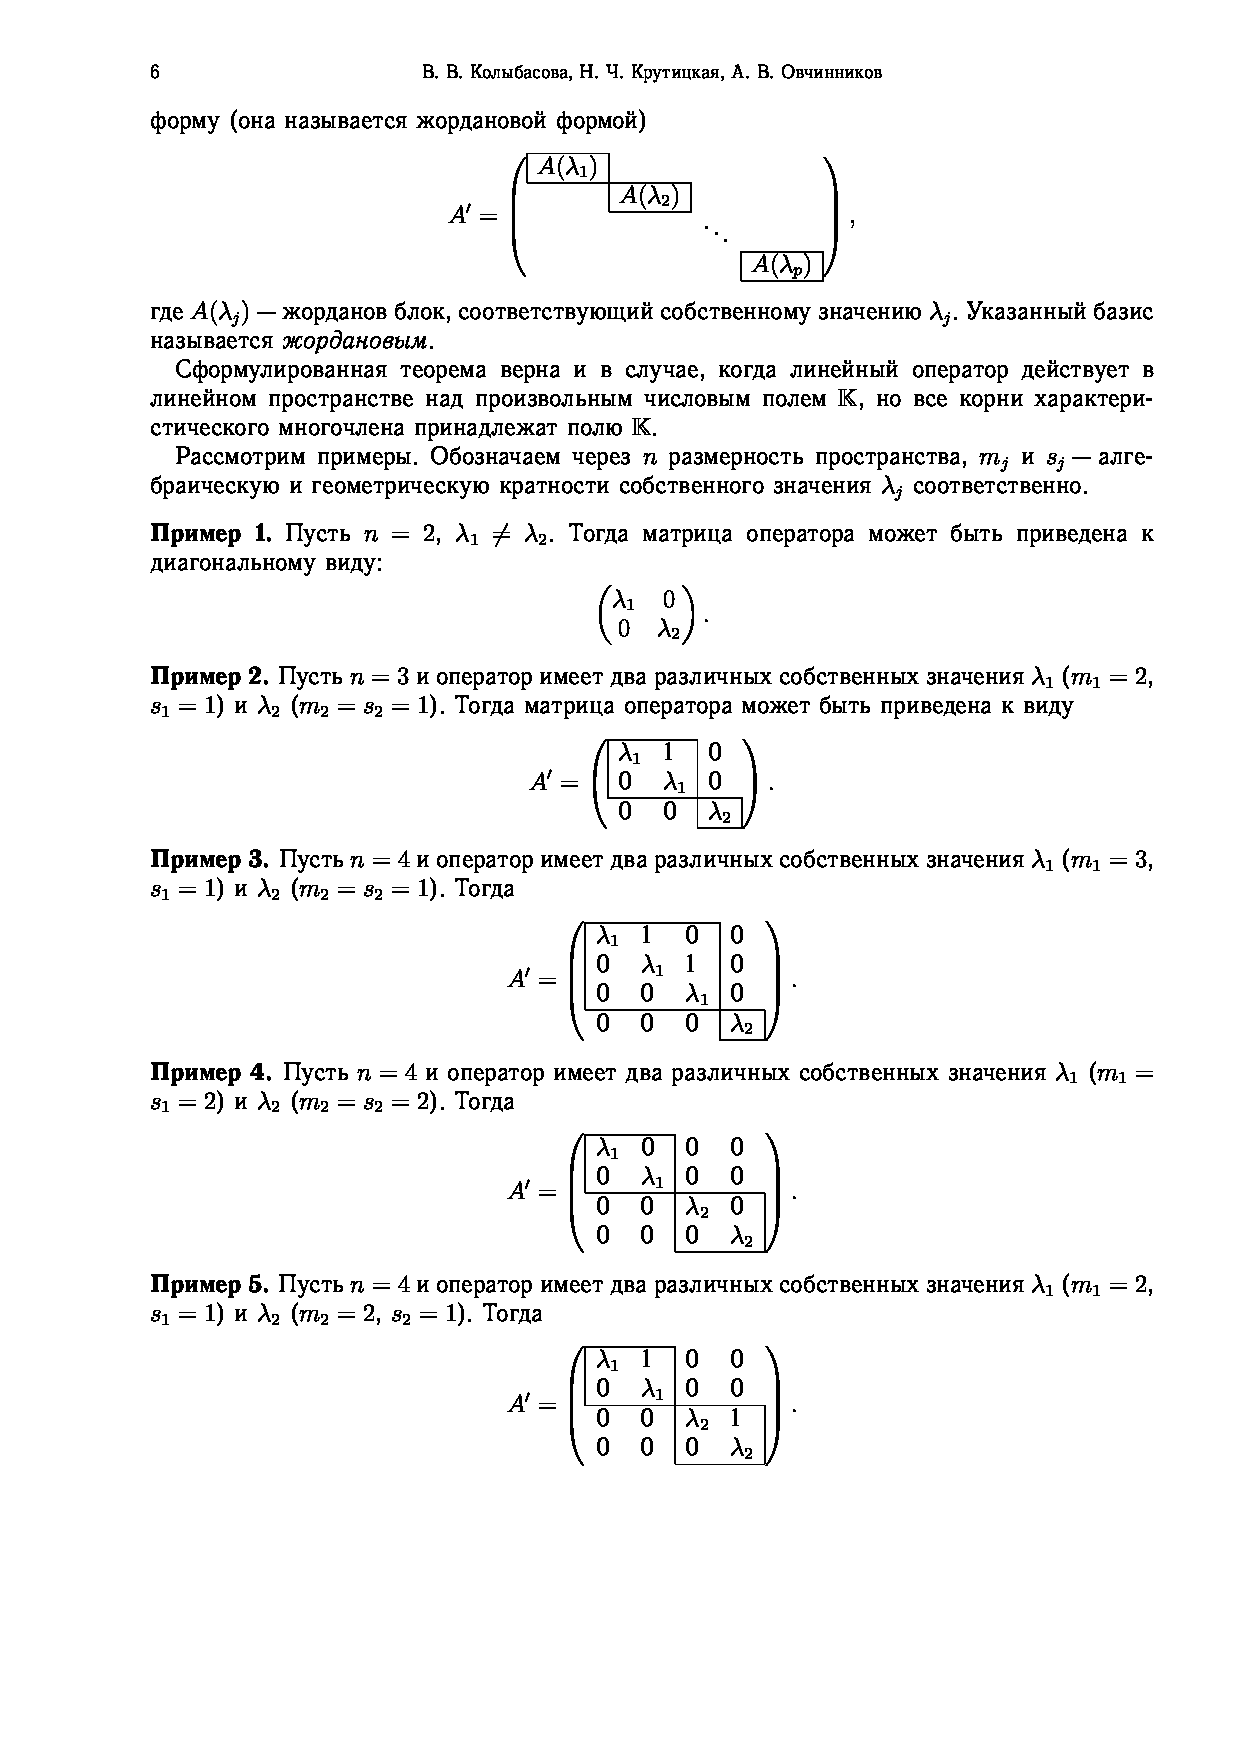pMatrix: (510, 153, 839, 286), (568, 1342, 784, 1471), (570, 1133, 782, 1256), (568, 921, 782, 1041), (590, 735, 760, 836), (597, 582, 695, 650)
